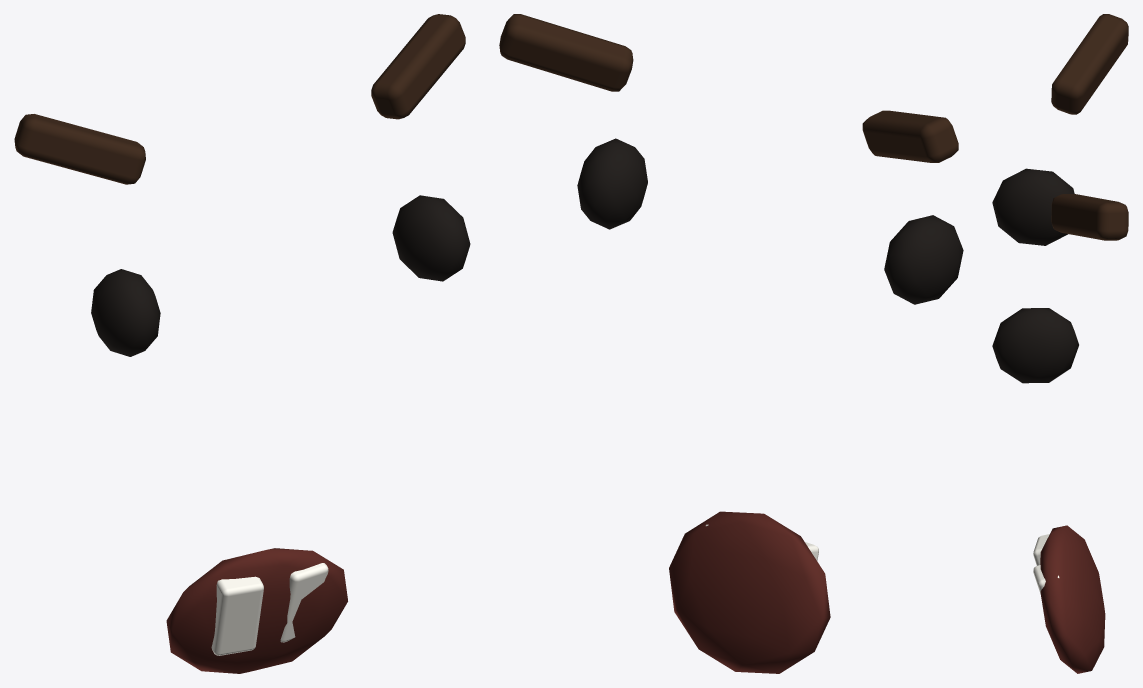
The model's file is 15-goofball.glb.
3 views of the same model, side by side, from view 1: azimuth 30°, elevation 25°; view 2: azimuth 150°, elevation 25°; view 3: azimuth 270°, elevation 25° (orthographic). The views are drawn at different scales.
Parts seen in each view (by area): view 1: Face15_MouthOpen, Face15_Brow-1, Face15_Brow1, Face15_Eye1, Face15_Eye-1, Face15_Tooth-1, Face15_Tooth1; view 2: Face15_MouthOpen, Face15_Brow1, Face15_Eye-1, Face15_Eye1, Face15_Brow-1; view 3: Face15_MouthOpen, Face15_Eye1, Face15_Eye-1, Face15_Brow-1, Face15_Brow1, Face15_Tooth-1.
Boxes of the visible parts, x1,y1,x2,y2 form: Face15_MouthOpen: (166, 548, 347, 673); Face15_Brow-1: (14, 114, 145, 184); Face15_Brow1: (371, 14, 465, 119); Face15_Eye1: (392, 195, 470, 281); Face15_Eye-1: (91, 269, 160, 356); Face15_Tooth-1: (211, 576, 263, 655); Face15_Tooth1: (280, 563, 328, 642); Face15_MouthOpen: (669, 511, 830, 673); Face15_Brow1: (499, 14, 633, 91); Face15_Eye-1: (884, 215, 963, 304); Face15_Eye1: (577, 138, 647, 229); Face15_Brow-1: (862, 110, 958, 162); Face15_MouthOpen: (1040, 525, 1105, 673); Face15_Eye1: (992, 308, 1078, 383); Face15_Eye-1: (992, 168, 1074, 245); Face15_Brow-1: (1051, 14, 1128, 114); Face15_Brow1: (1051, 194, 1128, 240); Face15_Tooth-1: (1033, 534, 1049, 565).
Size of the model in its own units: 0.2717 by 0.3486 by 0.0775.
